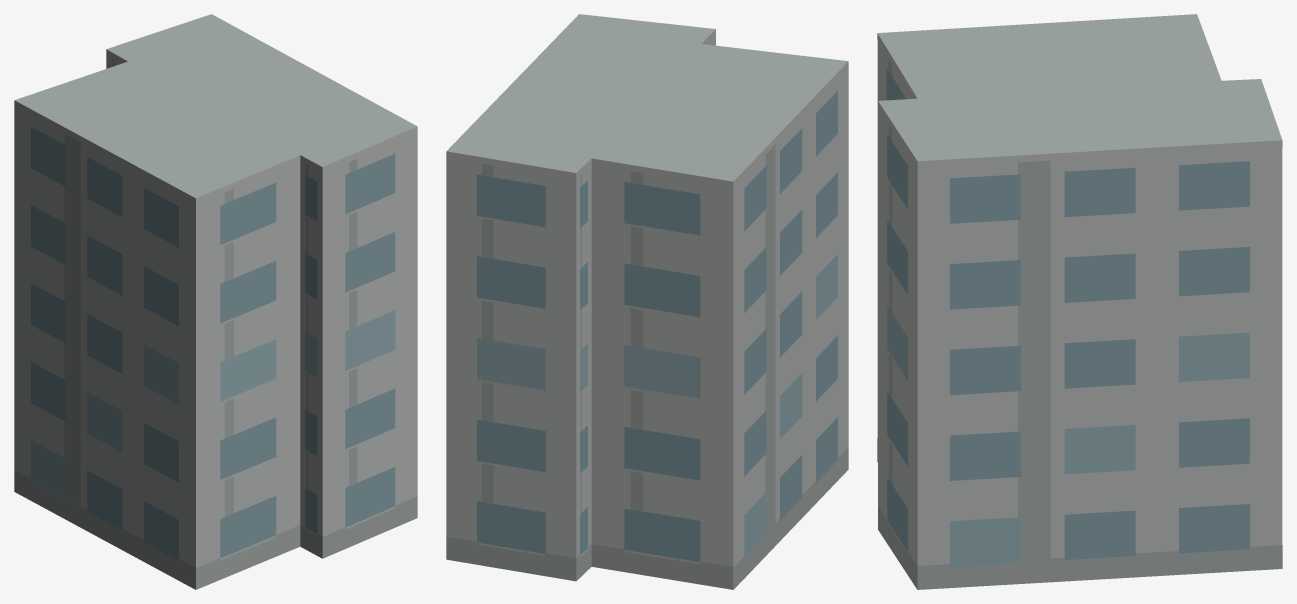
The model's file is survey-upis-32709194.glb.
3 renders of one model, left to right at view 1: azimuth 30°, elevation 25°; view 2: azimuth 150°, elevation 25°; view 3: azimuth 270°, elevation 25°, orthographic. The views are drawn at different scales.
Visible parts, largest first — view 1: survey-upis-32709194.tmp; view 2: survey-upis-32709194.tmp; view 3: survey-upis-32709194.tmp.
Part boxes in pixels (x1,y1,x2,y2): survey-upis-32709194.tmp: (14, 14, 417, 589); survey-upis-32709194.tmp: (446, 14, 848, 589); survey-upis-32709194.tmp: (877, 14, 1282, 589).
Bounding box in the file's own units: 11.21 × 15.2 × 13.03.
